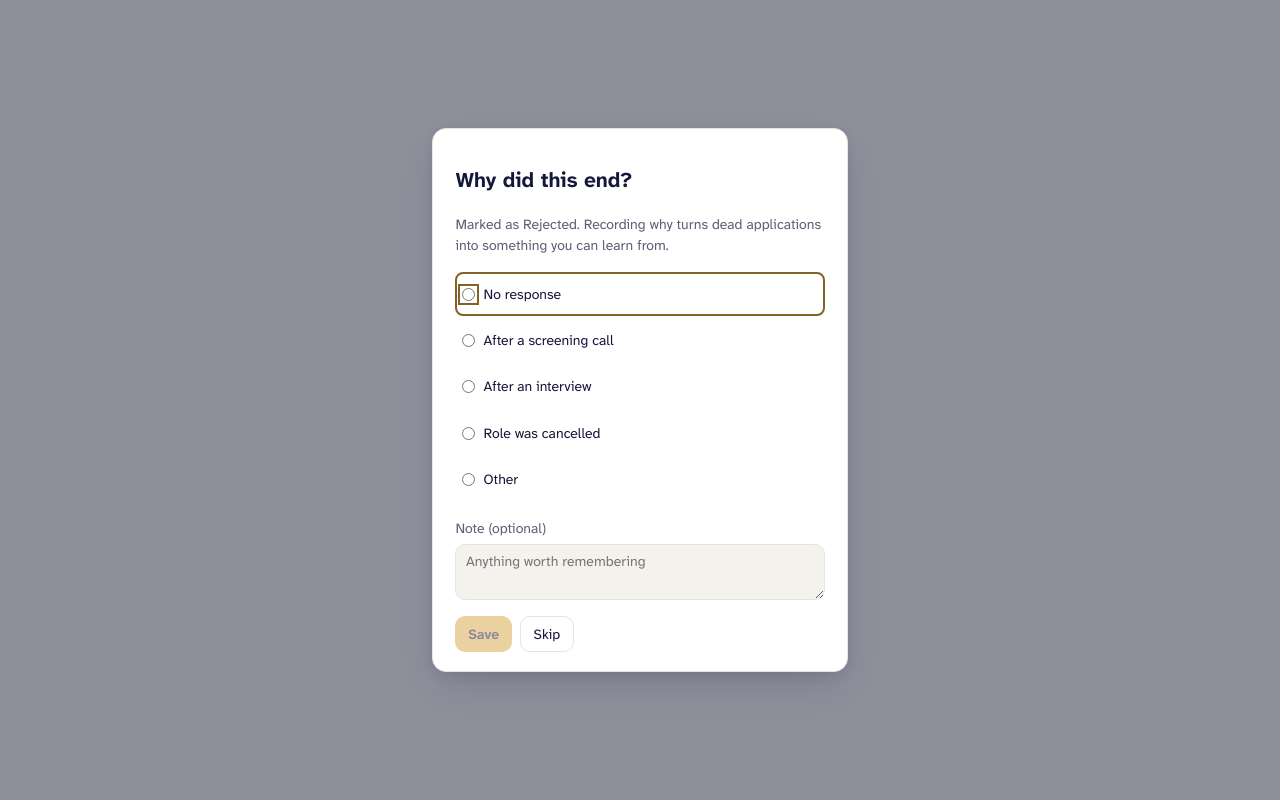
Scenario: OutcomeDialog › save stays disabled until a reason is picked
Check: the button "Save" is disabled, box [455, 616, 512, 652]
Click the radio button labelled "No response" at (468, 294), box [462, 288, 475, 301]
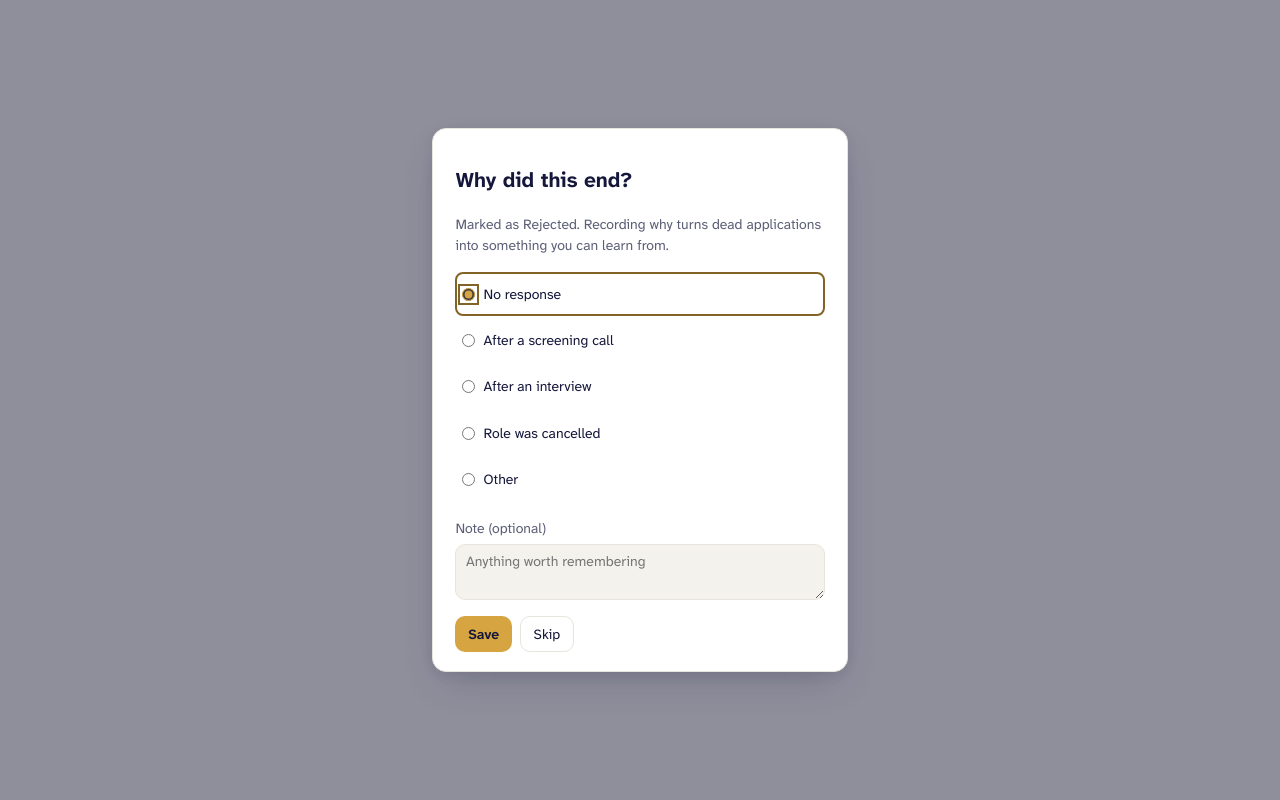
Check: the button "Save" is enabled, box [455, 616, 512, 652]
